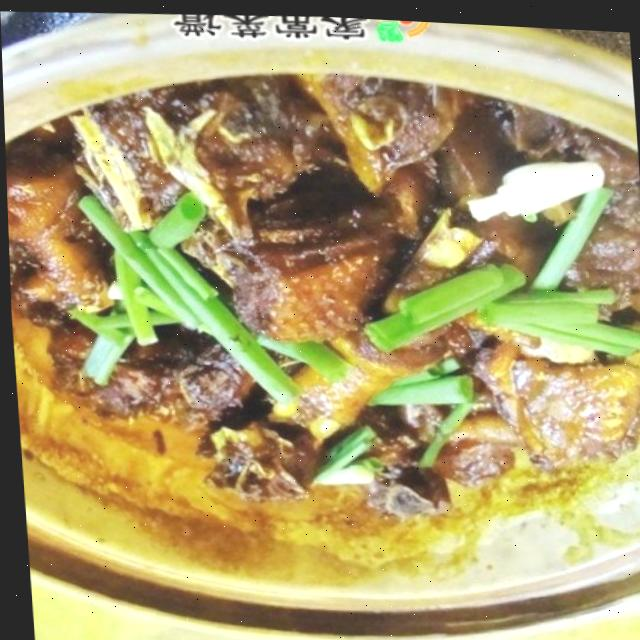鸡肉料理 含炸鸡: (0, 2, 640, 640)
